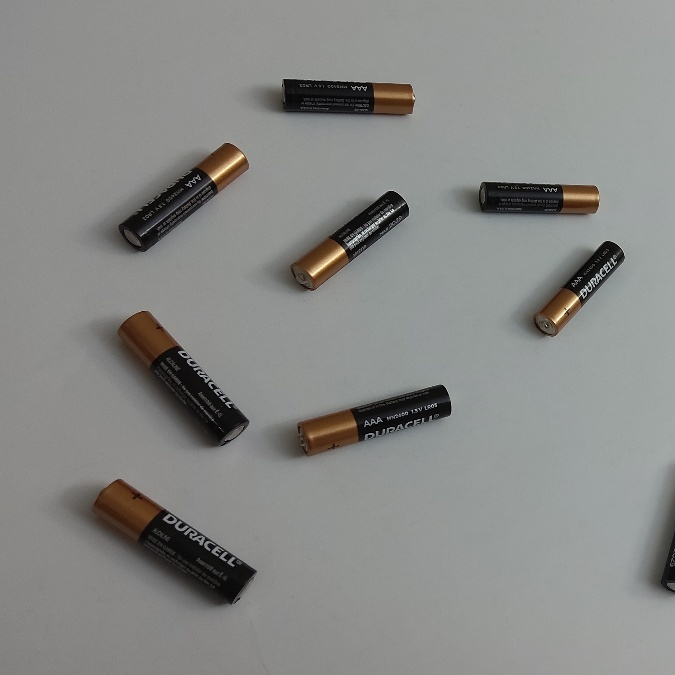battery: (80, 474, 269, 615), (111, 302, 252, 450), (116, 133, 253, 259), (289, 372, 457, 463), (285, 181, 410, 298), (530, 231, 629, 342), (275, 69, 425, 122), (469, 173, 606, 222)
